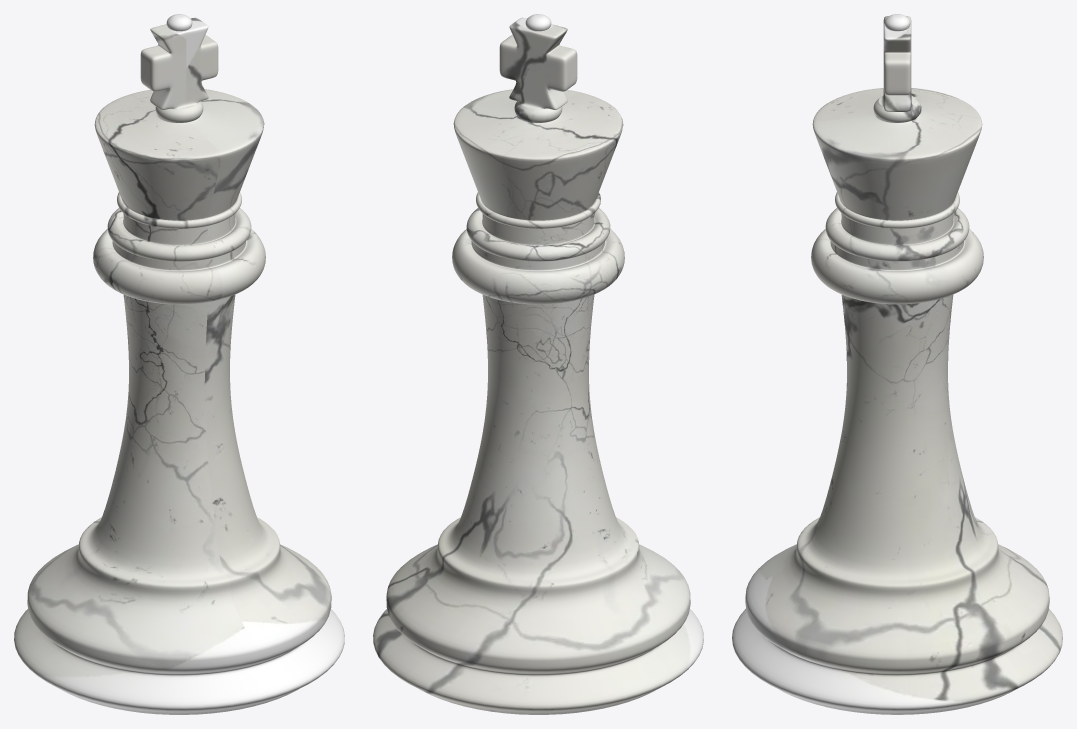
The model's file is king.glb.
3 views of the same model, side by side, from view 1: azimuth 30°, elevation 25°; view 2: azimuth 150°, elevation 25°; view 3: azimuth 270°, elevation 25° (orthographic).
Visible parts, largest first — view 1: Cylinder_3; view 2: Cylinder_3; view 3: Cylinder_3.
Part boxes in pixels (box(x1,y1,x2,y2)): Cylinder_3: box(14, 14, 344, 714); Cylinder_3: box(373, 14, 703, 714); Cylinder_3: box(732, 14, 1062, 714).
Size of the model in its own units: 2.19 by 4.66 by 2.19.
1 material, 1 textured.
